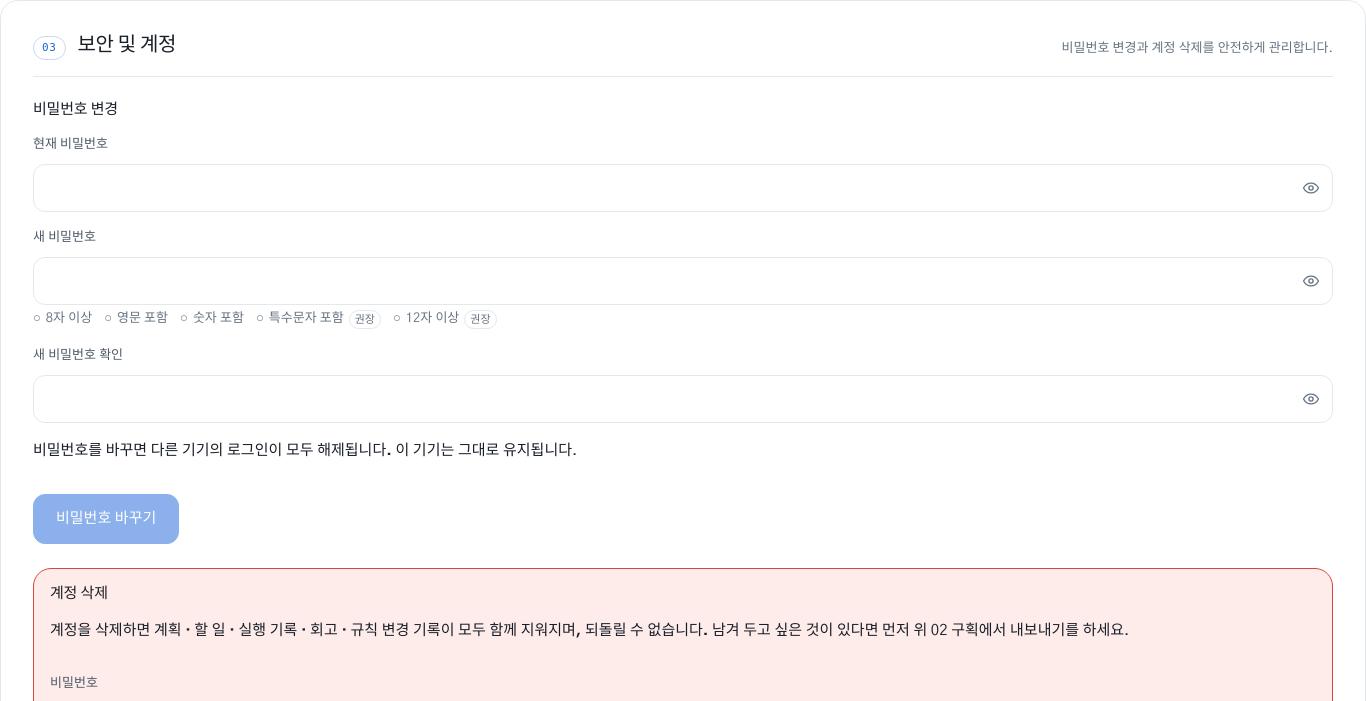
Scenario: 비밀번호 변경 › 성공하면 세 칸을 비우고 결과를 말한다
Type "합성-현재-비밀번호-2c40" into the password field labelled "현재 비밀번호" at (683, 188), box [33, 164, 1333, 212]
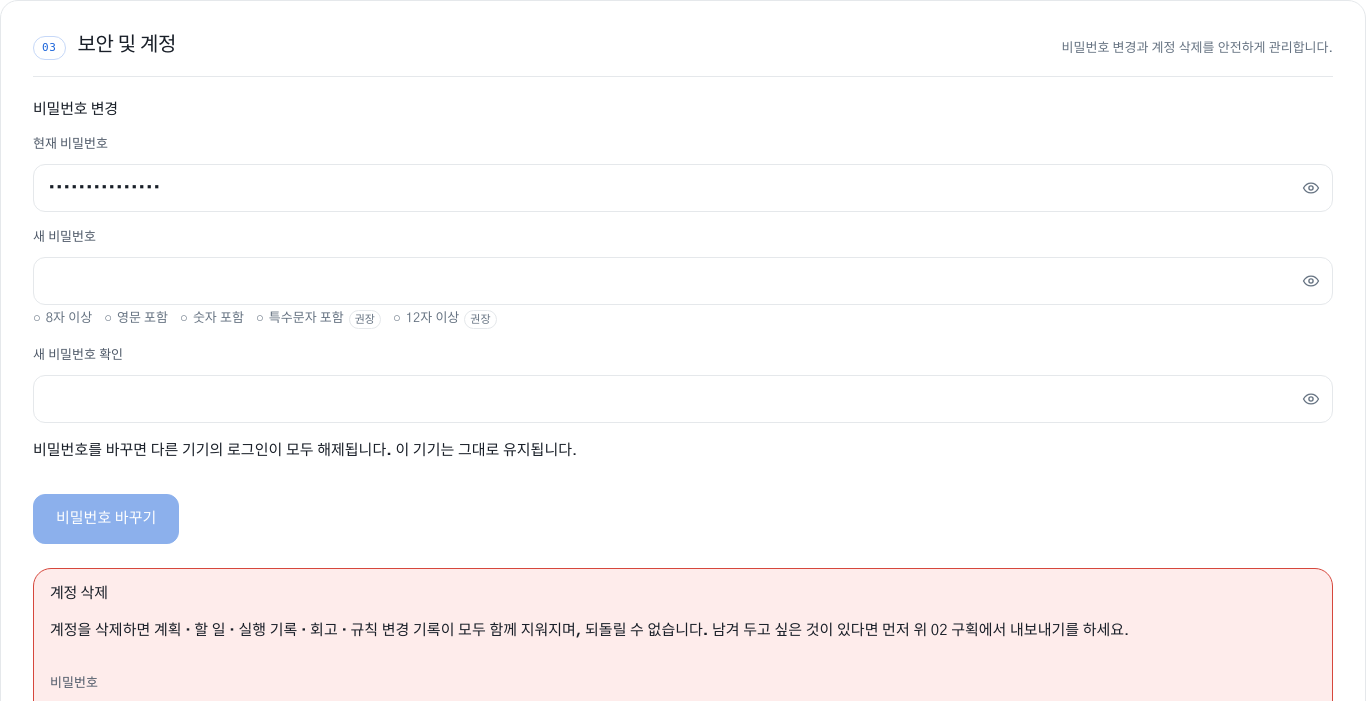
Type "합성-새-비밀번호-8d31" into the password field labelled "새 비밀번호" at (683, 281), box [33, 257, 1333, 305]
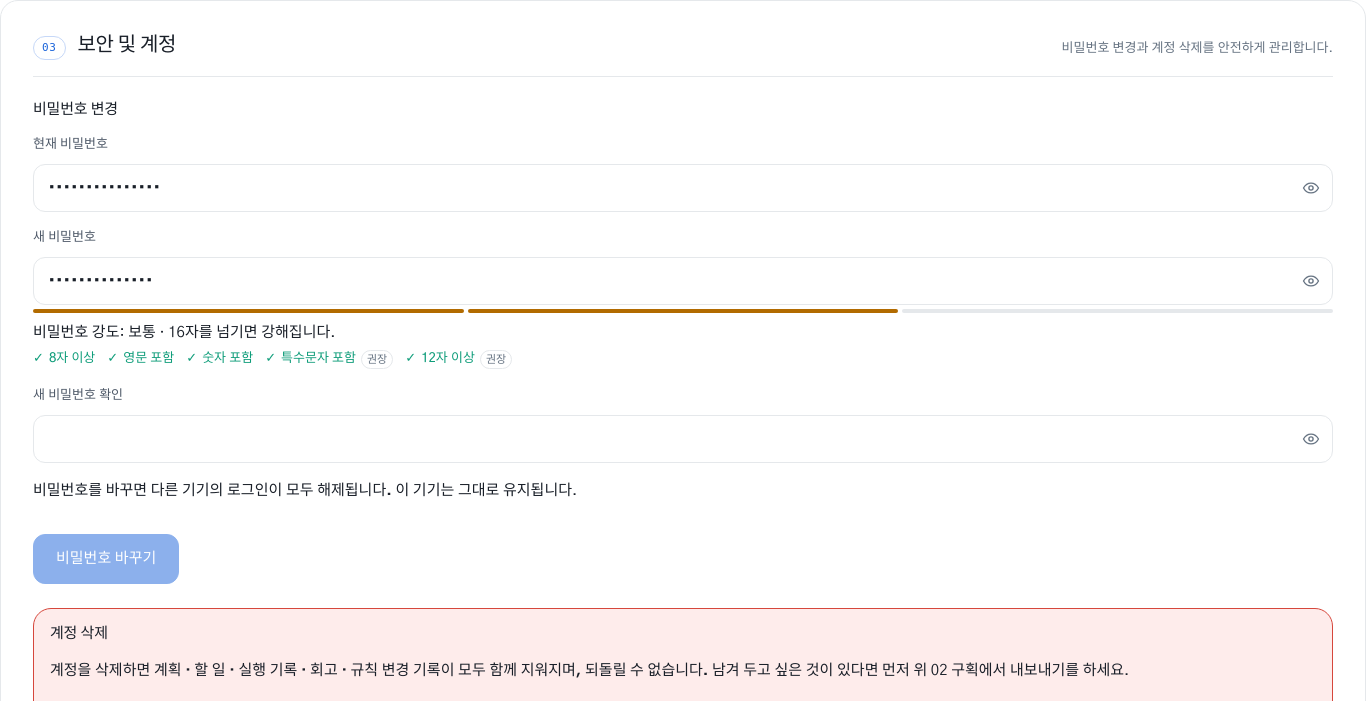
Type "합성-새-비밀번호-8d31" into the password field labelled "새 비밀번호 확인" at (683, 438), box [33, 414, 1333, 462]
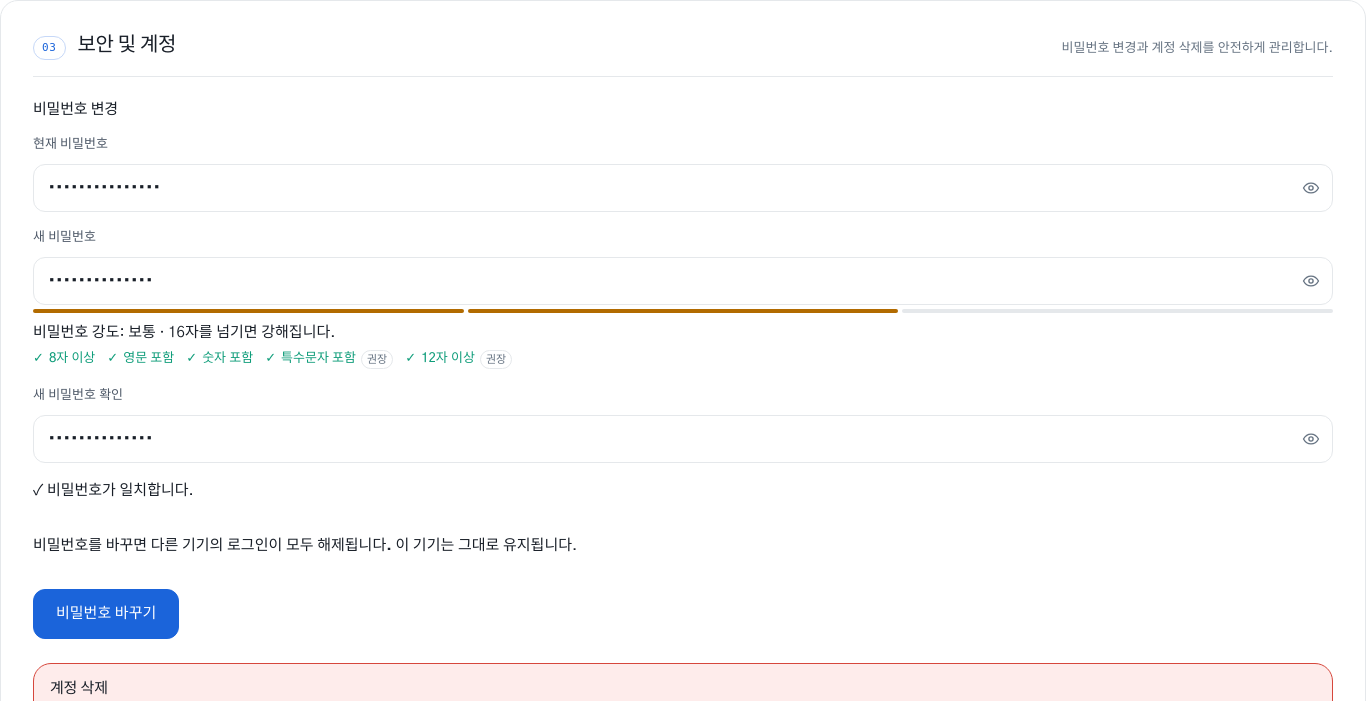
Click the button "비밀번호 바꾸기" at (106, 614), box [33, 588, 179, 638]
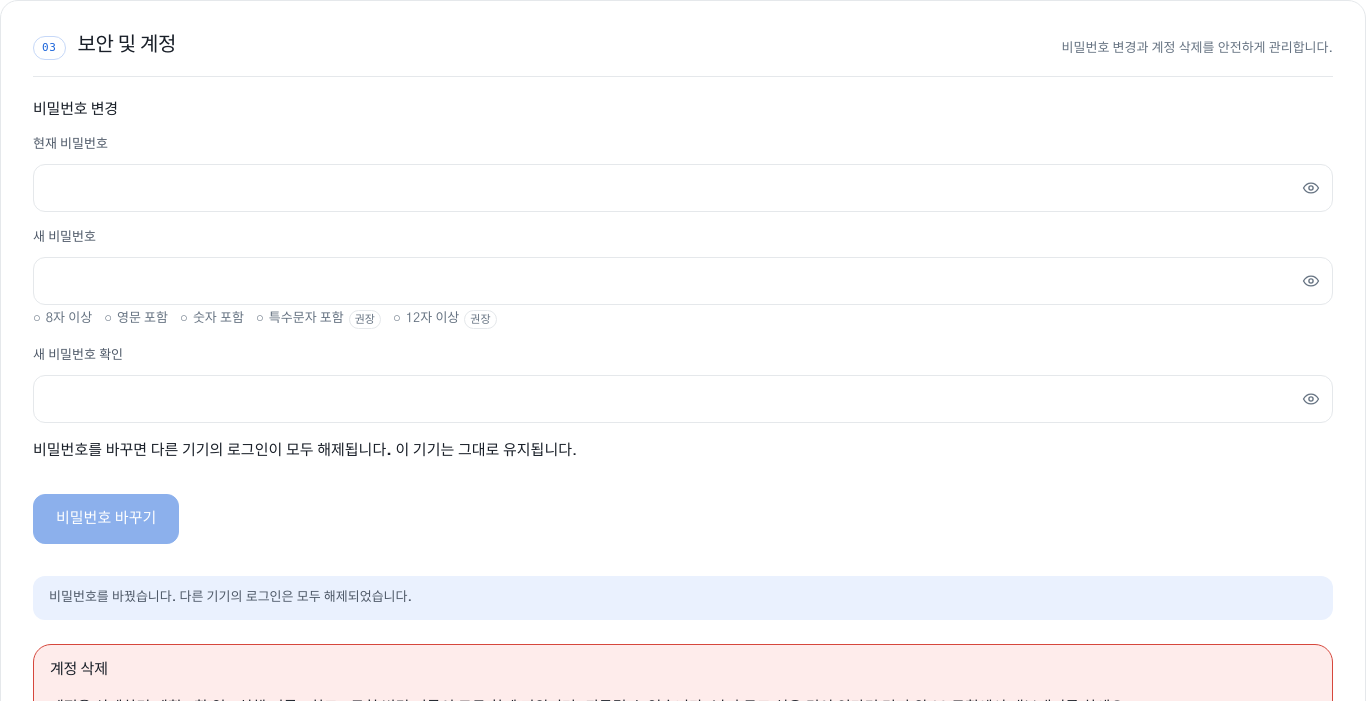
Check: the message shows "바꿨습니다", box [49, 590, 412, 604]
Check: the password field labelled "현재 비밀번호" is empty, box [33, 164, 1333, 212]
Check: the password field labelled "새 비밀번호" is empty, box [33, 257, 1333, 305]
